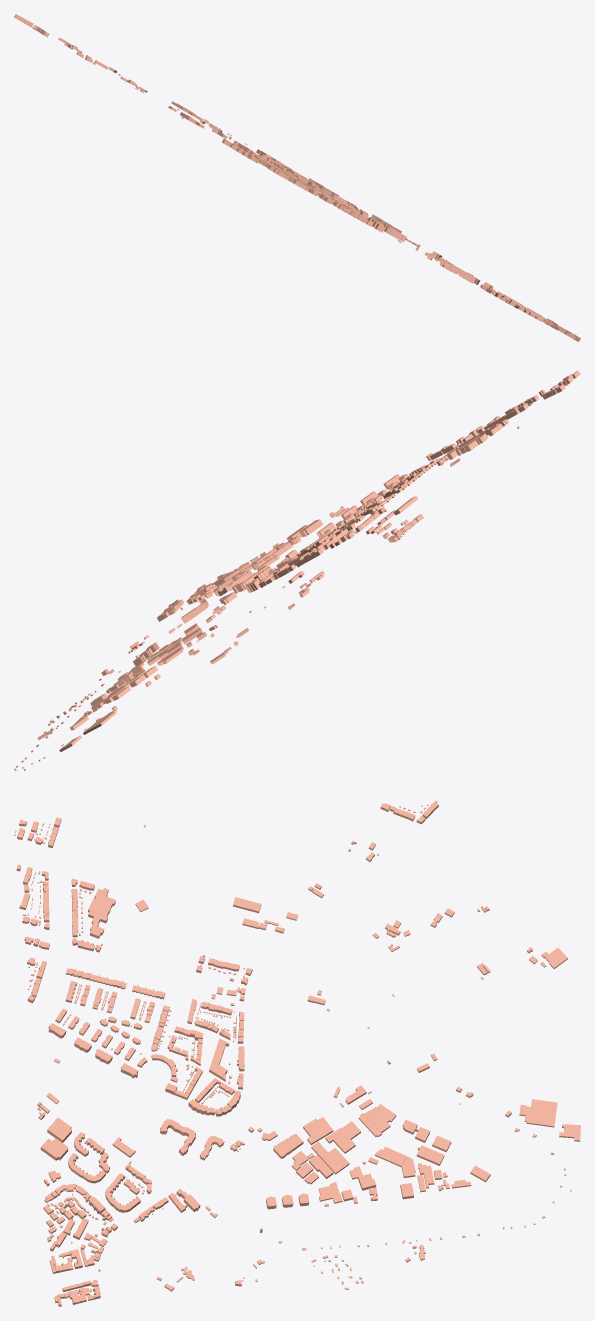
The picture shows the model from 3 angles, top to bottom: view 1: azimuth 30°, elevation 25°; view 2: azimuth 150°, elevation 25°; view 3: azimuth 270°, elevation 25°; orthographic projection. The views are drawn at different scales.
Bounding box in the file's own units: 1052 × 753 × 1257.
